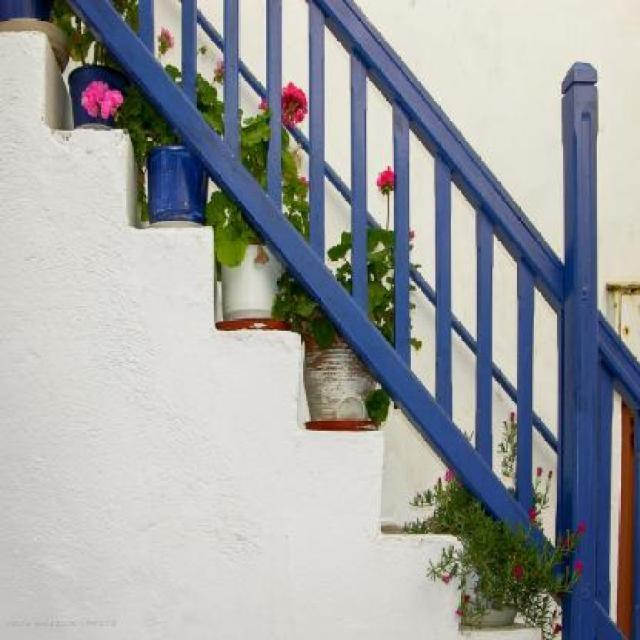stair: (0, 29, 538, 640)
